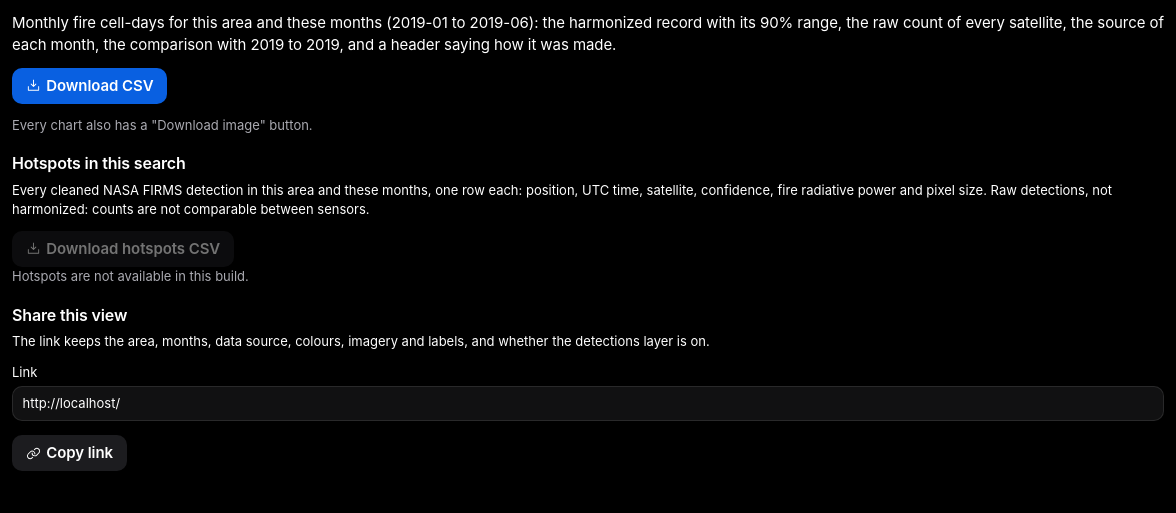
Scenario: ExportButton copy link › announces success when the clipboard accepts the link
Click the button "Copy link" at x=69, y=453, box 12,435 -> 127,471
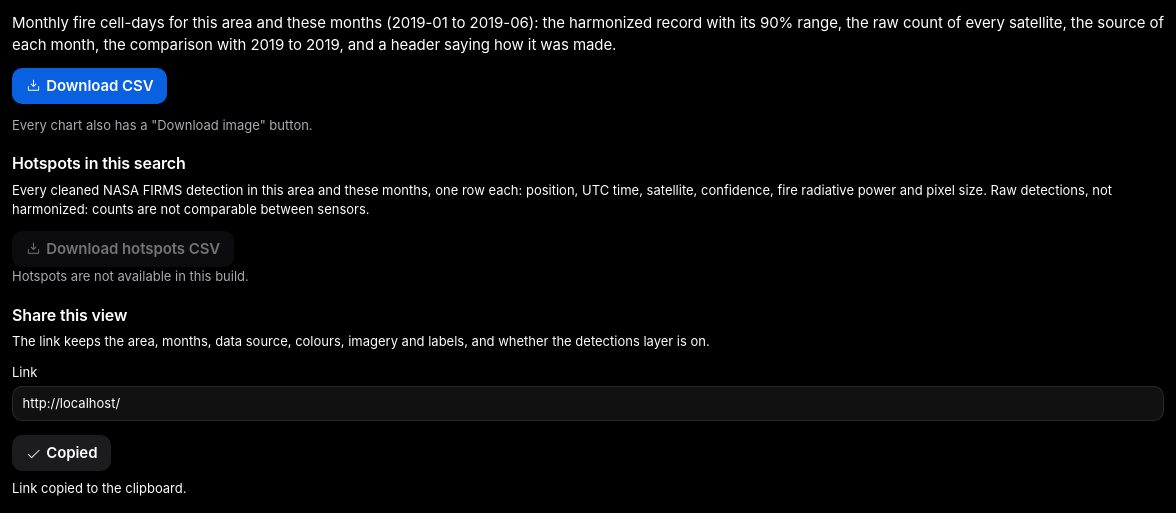
Expected: the message shows "Link copied", 12,480 -> 186,496
